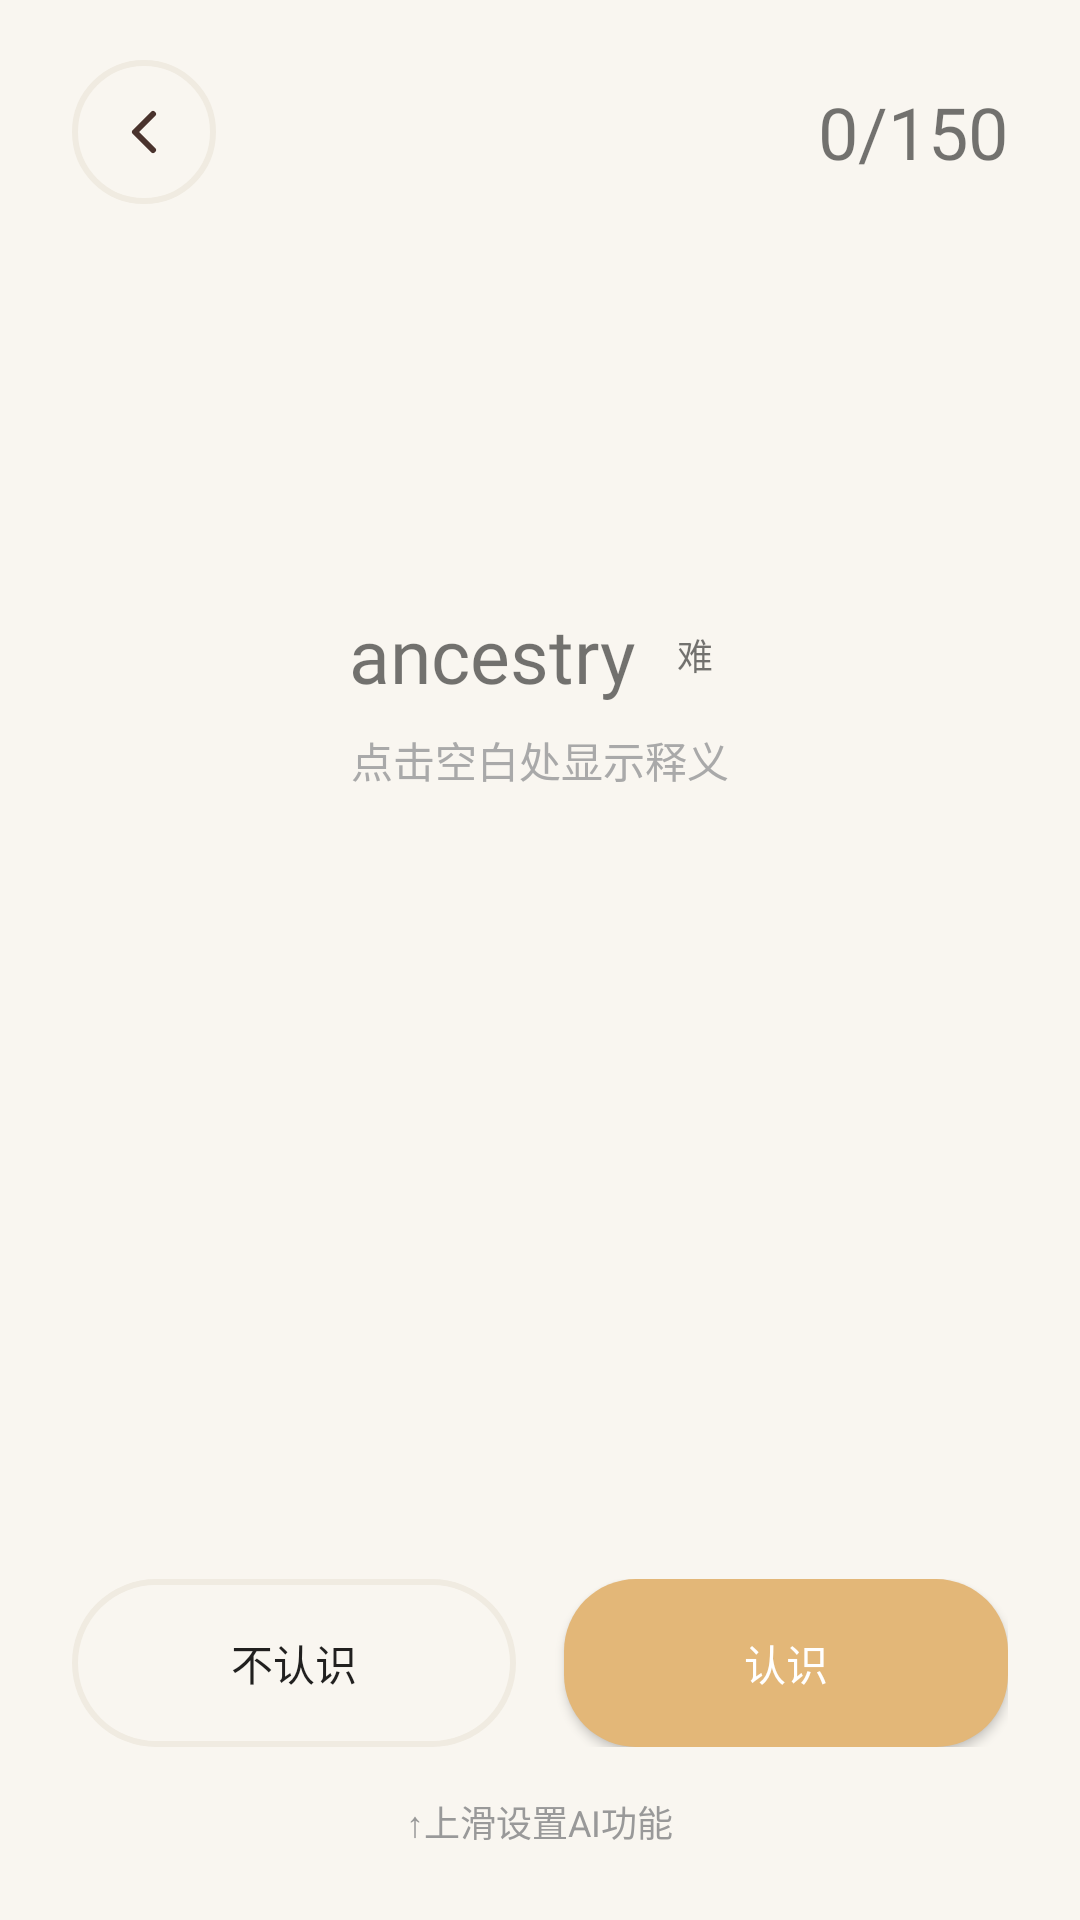

Named icons in this screenshot (1080*1920) and their centers, (x,y):
arrow back: (144,132)
